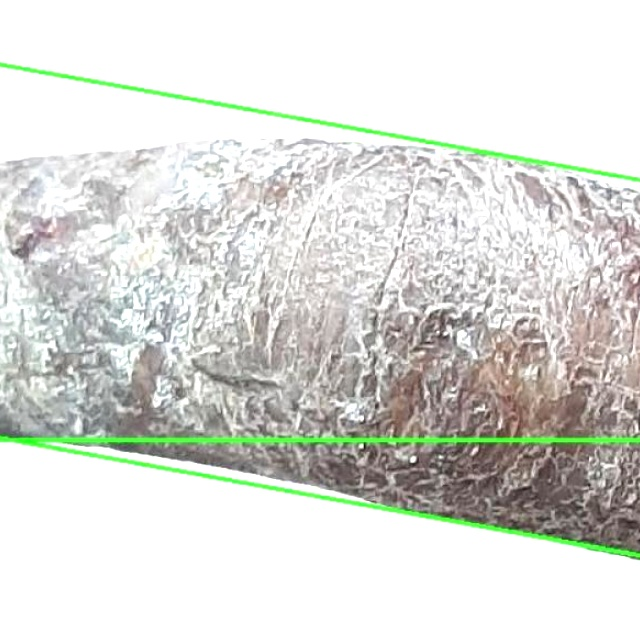Eczema: (0, 64, 639, 555), (0, 439, 639, 639)
